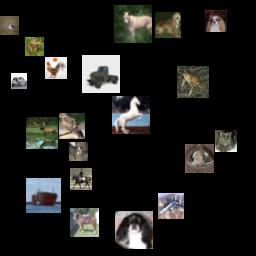airplane: (158, 193, 184, 219)
automobile: (11, 73, 27, 89)
bird: (59, 113, 85, 139), (45, 57, 67, 79), (0, 16, 19, 35)
cat: (215, 130, 237, 152), (69, 142, 88, 161)
deer: (26, 117, 58, 149)
dog: (114, 5, 152, 43), (115, 211, 153, 249), (185, 144, 214, 173), (155, 12, 181, 38), (205, 10, 227, 32)
frog: (177, 66, 209, 98), (25, 37, 44, 56)
ship: (26, 178, 61, 213)
truck: (82, 55, 120, 93)
